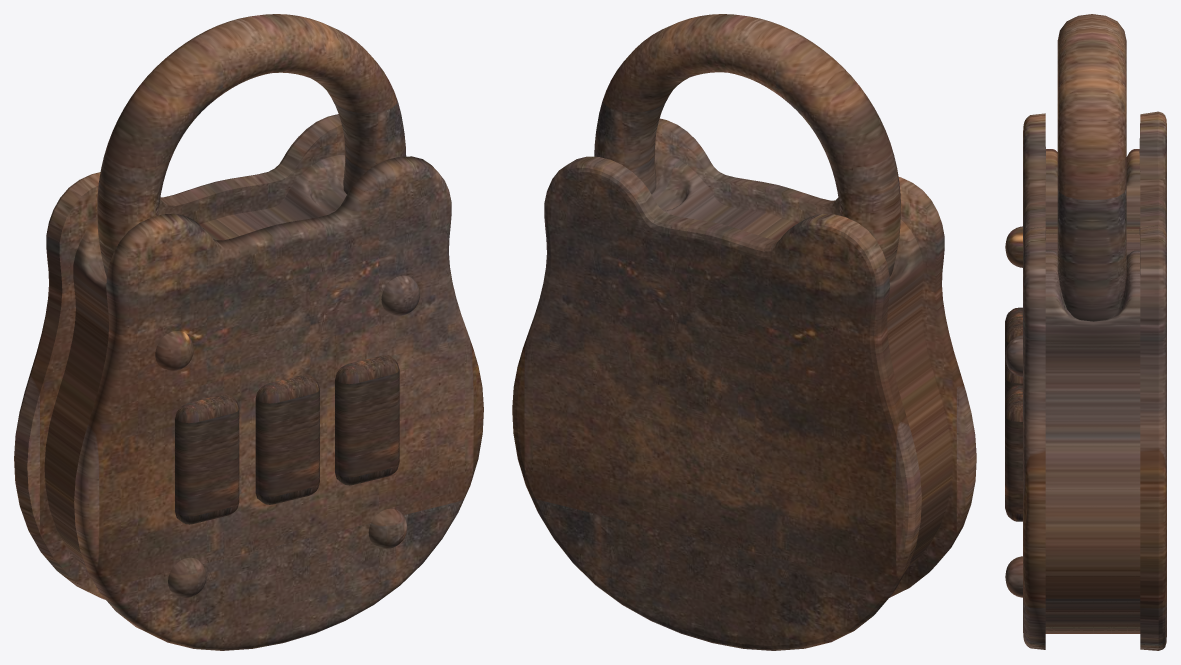
The model's file is padlock.FBX.
3 views of the same model, side by side, from view 1: azimuth 30°, elevation 25°; view 2: azimuth 150°, elevation 25°; view 3: azimuth 270°, elevation 25° (orthographic).
Visible parts, largest first — view 1: 16885_Old_padlock001, ChamferBox002, ChamferBox001, ChamferBox003; view 2: 16885_Old_padlock001; view 3: 16885_Old_padlock001, ChamferBox003, ChamferBox001, ChamferBox002.
Part boxes in pixels (left/top/right/bottom): 16885_Old_padlock001: left=14, top=14, right=483, bottom=650; ChamferBox002: left=255, top=374, right=319, bottom=504; ChamferBox001: left=175, top=394, right=239, bottom=524; ChamferBox003: left=335, top=355, right=399, bottom=485; 16885_Old_padlock001: left=512, top=14, right=976, bottom=650; 16885_Old_padlock001: left=1005, top=14, right=1166, bottom=650; ChamferBox003: left=1005, top=385, right=1022, bottom=521; ChamferBox001: left=1005, top=307, right=1022, bottom=359; ChamferBox002: left=1005, top=359, right=1022, bottom=397.
Size of the model in its own units: 4.7 by 6.66 by 1.64.
Materials: 2 (2 with a texture image).
